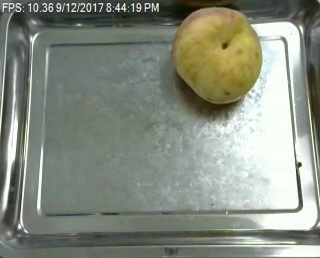Peach: (171, 6, 263, 104)
